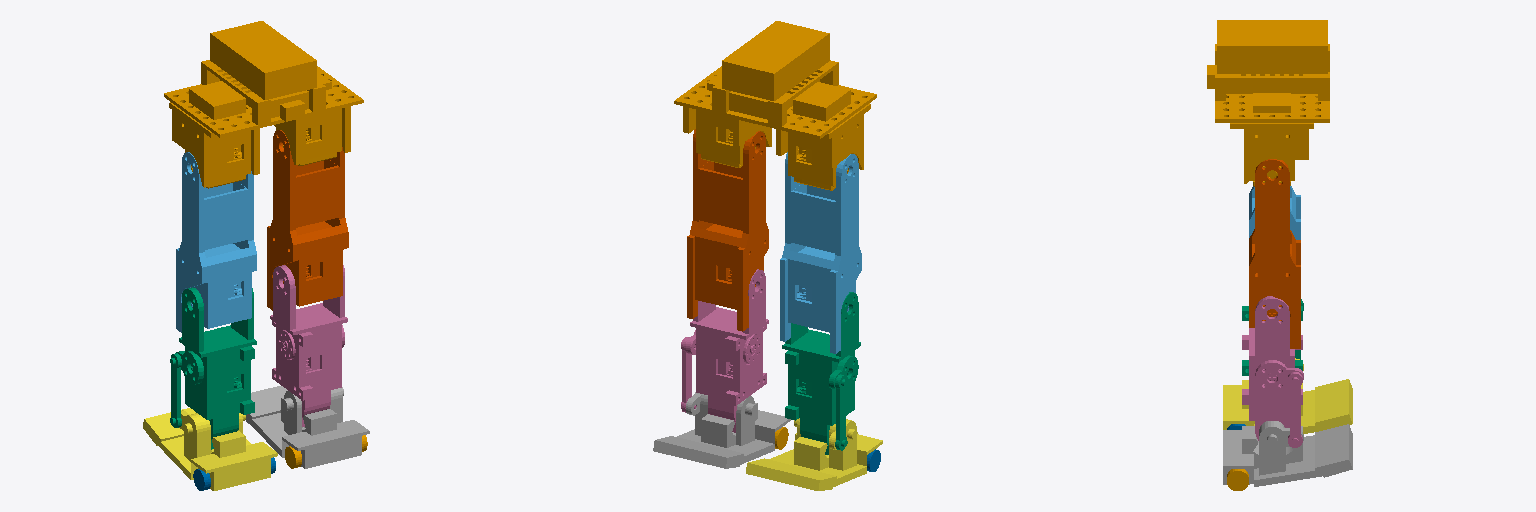
robot.urdf — moonwalk_mini_wheel:
<?xml version="1.0"?>
<!-- Generated by cad/build.py — do not edit. Foot variant: wheel. Total mass 382.3 g. Units: m, kg, kg·m², rad. -->
<robot name="moonwalk_mini_wheel">
  <link name="base_link">
    <inertial>
      <origin xyz="-0.000752311 -0.000186166 0.0276769" rpy="0 0 0"/>
      <mass value="0.148875"/>
      <inertia ixx="6.85301e-05" ixy="2.08506e-08" ixz="1.04419e-06" iyy="0.00012395" iyz="1.38398e-07" izz="9.49926e-05"/>
    </inertial>
    <visual>
      <origin xyz="0 0 0" rpy="0 0 0"/>
      <geometry><mesh filename="meshes/base_link.stl" scale="0.001 0.001 0.001"/></geometry>
    </visual>
    <collision name="base_link_body">
      <origin xyz="0 0 0.01145" rpy="0 0 0"/>
      <geometry><box size="0.088 0.02 0.0309"/></geometry>
    </collision>
    <collision name="base_link_tray">
      <origin xyz="0 0 0.03595" rpy="0 0 0"/>
      <geometry><box size="0.086 0.042 0.0181"/></geometry>
    </collision>
    <collision name="base_link_battery">
      <origin xyz="0 0 0.053" rpy="0 0 0"/>
      <geometry><box size="0.032 0.058 0.016"/></geometry>
    </collision>
  </link>
  <link name="L_thigh">
    <inertial>
      <origin xyz="-3.1717e-05 0.000413886 -0.0573372" rpy="0 0 0"/>
      <mass value="0.0441085"/>
      <inertia ixx="2.805e-05" ixy="-5.79022e-10" ixz="-2.07556e-08" iyy="3.01334e-05" iyz="3.77418e-07" izz="5.68791e-06"/>
    </inertial>
    <visual>
      <origin xyz="0 0 0" rpy="0 0 0"/>
      <geometry><mesh filename="meshes/L_thigh.stl" scale="0.001 0.001 0.001"/></geometry>
    </visual>
    <collision name="L_thigh_body">
      <origin xyz="0 0 -0.0525" rpy="0 0 0"/>
      <geometry><box size="0.032 0.0228 0.072"/></geometry>
    </collision>
  </link>
  <link name="L_shank">
    <inertial>
      <origin xyz="-0.000366964 0.000478842 -0.0429678" rpy="0 0 0"/>
      <mass value="0.044157"/>
      <inertia ixx="1.69101e-05" ixy="3.71902e-07" ixz="-2.08975e-07" iyy="1.86269e-05" iyz="1.80009e-07" izz="5.02995e-06"/>
    </inertial>
    <visual>
      <origin xyz="0 0 0" rpy="0 0 0"/>
      <geometry><mesh filename="meshes/L_shank.stl" scale="0.001 0.001 0.001"/></geometry>
    </visual>
    <collision name="L_shank_body">
      <origin xyz="0 0 -0.04365" rpy="0 0 0"/>
      <geometry><box size="0.0246 0.022 0.0373"/></geometry>
    </collision>
  </link>
  <link name="L_foot">
    <inertial>
      <origin xyz="-0.00113277 0.00203122 -0.0145507" rpy="0 0 0"/>
      <mass value="0.0252884"/>
      <inertia ixx="9.51689e-06" ixy="-1.52885e-10" ixz="2.52436e-07" iyy="4.7501e-06" iyz="-5.5871e-07" izz="1.12301e-05"/>
    </inertial>
    <visual>
      <origin xyz="0 0 0" rpy="0 0 0"/>
      <geometry><mesh filename="meshes/L_foot_wheel.stl" scale="0.001 0.001 0.001"/></geometry>
    </visual>
    <collision name="L_foot_toe_pad">
      <origin xyz="0 0.0340365 -0.0162944" rpy="0.314159 0 0"/>
      <geometry><box size="0.044 0.0157719 0.003"/></geometry>
    </collision>
    <collision name="L_foot_heel">
      <origin xyz="0 -0.018 -0.025" rpy="0 0 0"/>
      <geometry><box size="0.0352 0.016 0.003"/></geometry>
    </collision>
    <collision name="L_foot_body">
      <origin xyz="0 0.001 -0.0085" rpy="0 0 0"/>
      <geometry><box size="0.042 0.05 0.009"/></geometry>
    </collision>
  </link>
  <link name="L_wheel">
    <inertial>
      <origin xyz="-2.73874e-19 8.27733e-21 -3.61246e-20" rpy="0 0 0"/>
      <mass value="0.00316341"/>
      <inertia ixx="1.73002e-08" ixy="2.60396e-25" ixz="-8.31953e-23" iyy="7.02231e-07" iyz="-1.14039e-24" izz="7.02231e-07"/>
    </inertial>
    <visual>
      <origin xyz="0 0 0" rpy="0 0 0"/>
      <geometry><mesh filename="meshes/L_wheel.stl" scale="0.001 0.001 0.001"/></geometry>
    </visual>
    <collision name="L_wheel_out">
      <origin xyz="-0.02 0 0" rpy="0 0 0"/>
      <geometry><sphere radius="0.006"/></geometry>
    </collision>
    <collision name="L_wheel_in">
      <origin xyz="0.02 0 0" rpy="0 0 0"/>
      <geometry><sphere radius="0.006"/></geometry>
    </collision>
  </link>
  <link name="R_thigh">
    <inertial>
      <origin xyz="3.1717e-05 0.000413886 -0.0573372" rpy="0 0 0"/>
      <mass value="0.0441085"/>
      <inertia ixx="2.805e-05" ixy="5.79022e-10" ixz="2.07556e-08" iyy="3.01334e-05" iyz="3.77418e-07" izz="5.68791e-06"/>
    </inertial>
    <visual>
      <origin xyz="0 0 0" rpy="0 0 0"/>
      <geometry><mesh filename="meshes/R_thigh.stl" scale="0.001 0.001 0.001"/></geometry>
    </visual>
    <collision name="R_thigh_body">
      <origin xyz="-0 0 -0.0525" rpy="0 0 0"/>
      <geometry><box size="0.032 0.0228 0.072"/></geometry>
    </collision>
  </link>
  <link name="R_shank">
    <inertial>
      <origin xyz="0.000366964 0.000478842 -0.0429678" rpy="0 0 0"/>
      <mass value="0.044157"/>
      <inertia ixx="1.69101e-05" ixy="-3.71902e-07" ixz="2.08975e-07" iyy="1.86269e-05" iyz="1.80009e-07" izz="5.02995e-06"/>
    </inertial>
    <visual>
      <origin xyz="0 0 0" rpy="0 0 0"/>
      <geometry><mesh filename="meshes/R_shank.stl" scale="0.001 0.001 0.001"/></geometry>
    </visual>
    <collision name="R_shank_body">
      <origin xyz="-0 0 -0.04365" rpy="0 0 0"/>
      <geometry><box size="0.0246 0.022 0.0373"/></geometry>
    </collision>
  </link>
  <link name="R_foot">
    <inertial>
      <origin xyz="0.00113277 0.00203122 -0.0145507" rpy="0 0 0"/>
      <mass value="0.0252884"/>
      <inertia ixx="9.51689e-06" ixy="1.52885e-10" ixz="-2.52436e-07" iyy="4.7501e-06" iyz="-5.5871e-07" izz="1.12301e-05"/>
    </inertial>
    <visual>
      <origin xyz="0 0 0" rpy="0 0 0"/>
      <geometry><mesh filename="meshes/R_foot_wheel.stl" scale="0.001 0.001 0.001"/></geometry>
    </visual>
    <collision name="R_foot_toe_pad">
      <origin xyz="-0 0.0340365 -0.0162944" rpy="0.314159 0 0"/>
      <geometry><box size="0.044 0.0157719 0.003"/></geometry>
    </collision>
    <collision name="R_foot_heel">
      <origin xyz="-0 -0.018 -0.025" rpy="0 0 0"/>
      <geometry><box size="0.0352 0.016 0.003"/></geometry>
    </collision>
    <collision name="R_foot_body">
      <origin xyz="-0 0.001 -0.0085" rpy="0 0 0"/>
      <geometry><box size="0.042 0.05 0.009"/></geometry>
    </collision>
  </link>
  <link name="R_wheel">
    <inertial>
      <origin xyz="-2.80766e-19 1.28706e-20 9.5161e-20" rpy="0 0 0"/>
      <mass value="0.00316341"/>
      <inertia ixx="1.73002e-08" ixy="-1.56256e-25" ixz="7.89776e-23" iyy="7.02231e-07" iyz="-1.10386e-24" izz="7.02231e-07"/>
    </inertial>
    <visual>
      <origin xyz="0 0 0" rpy="0 0 0"/>
      <geometry><mesh filename="meshes/R_wheel.stl" scale="0.001 0.001 0.001"/></geometry>
    </visual>
    <collision name="R_wheel_out">
      <origin xyz="0.02 0 0" rpy="0 0 0"/>
      <geometry><sphere radius="0.006"/></geometry>
    </collision>
    <collision name="R_wheel_in">
      <origin xyz="-0.02 0 0" rpy="0 0 0"/>
      <geometry><sphere radius="0.006"/></geometry>
    </collision>
  </link>
  <joint name="L_hip_pitch" type="revolute">
    <parent link="base_link"/>
    <child link="L_thigh"/>
    <origin xyz="-0.028 0 0" rpy="0 0 0"/>
    <axis xyz="1 0 0"/>
    <limit lower="-0.523599" upper="1.5708" effort="0.88" velocity="7.64"/>
  </joint>
  <joint name="L_knee_pitch" type="revolute">
    <parent link="L_thigh"/>
    <child link="L_shank"/>
    <origin xyz="0 0 -0.08" rpy="0 0 0"/>
    <axis xyz="-1 0 0"/>
    <limit lower="0" upper="2.0944" effort="0.88" velocity="7.64"/>
  </joint>
  <joint name="L_ankle_pitch" type="revolute">
    <parent link="L_shank"/>
    <child link="L_foot"/>
    <origin xyz="0 0 -0.072" rpy="0 0 0"/>
    <axis xyz="1 0 0"/>
    <limit lower="-0.610865" upper="0.523599" effort="0.88" velocity="7.64"/>
  </joint>
  <joint name="L_wheel_axle" type="continuous">
    <parent link="L_foot"/>
    <child link="L_wheel"/>
    <origin xyz="0 -0.018 -0.022" rpy="0 0 0"/>
    <axis xyz="1 0 0"/>
    <limit effort="0" velocity="200"/>
    <dynamics damping="2e-05" friction="0.0005"/>
  </joint>
  <joint name="R_hip_pitch" type="revolute">
    <parent link="base_link"/>
    <child link="R_thigh"/>
    <origin xyz="0.028 0 0" rpy="0 0 0"/>
    <axis xyz="1 -0 -0"/>
    <limit lower="-0.523599" upper="1.5708" effort="0.88" velocity="7.64"/>
  </joint>
  <joint name="R_knee_pitch" type="revolute">
    <parent link="R_thigh"/>
    <child link="R_shank"/>
    <origin xyz="0 0 -0.08" rpy="0 0 0"/>
    <axis xyz="-1 -0 -0"/>
    <limit lower="0" upper="2.0944" effort="0.88" velocity="7.64"/>
  </joint>
  <joint name="R_ankle_pitch" type="revolute">
    <parent link="R_shank"/>
    <child link="R_foot"/>
    <origin xyz="0 0 -0.072" rpy="0 0 0"/>
    <axis xyz="1 -0 -0"/>
    <limit lower="-0.610865" upper="0.523599" effort="0.88" velocity="7.64"/>
  </joint>
  <joint name="R_wheel_axle" type="continuous">
    <parent link="R_foot"/>
    <child link="R_wheel"/>
    <origin xyz="0 -0.018 -0.022" rpy="0 0 0"/>
    <axis xyz="1 -0 -0"/>
    <limit effort="0" velocity="200"/>
    <dynamics damping="2e-05" friction="0.0005"/>
  </joint>
</robot>

--- What the picture shows (computed from the rendered views, not written in the file) ---
The picture shows the robot from 3 angles, left to right: view 1: azimuth 30°, elevation 25°; view 2: azimuth 150°, elevation 25°; view 3: azimuth 270°, elevation 25°; orthographic projection.
Model moonwalk_mini_wheel with 9 links and 8 joints (6 revolute, 2 continuous), rooted at base_link, posed every joint at zero.
Visible links, largest first — view 1: base_link, R_thigh, L_thigh, L_shank, R_shank, R_foot, L_foot; view 2: base_link, L_thigh, R_thigh, R_shank, L_shank, R_foot, L_foot; view 3: base_link, R_thigh, R_foot, R_shank, L_foot, L_thigh.
Link boxes in pixels (<box>): base_link: <box>164,21,363,188</box>; R_thigh: <box>267,130,348,310</box>; L_thigh: <box>176,152,256,332</box>; L_shank: <box>170,287,256,449</box>; R_shank: <box>270,265,347,426</box>; R_foot: <box>246,386,369,468</box>; L_foot: <box>143,408,277,490</box>; base_link: <box>674,21,876,190</box>; L_thigh: <box>780,152,861,353</box>; R_thigh: <box>687,129,768,331</box>; R_shank: <box>681,269,768,432</box>; L_shank: <box>782,292,860,454</box>; R_foot: <box>653,392,790,468</box>; L_foot: <box>746,418,882,490</box>; base_link: <box>1207,20,1329,186</box>; R_thigh: <box>1249,159,1300,348</box>; R_foot: <box>1223,421,1352,486</box>; R_shank: <box>1242,296,1303,447</box>; L_foot: <box>1223,358,1352,433</box>; L_thigh: <box>1249,186,1300,239</box>.
Bounding box of the posed robot: 0.1 × 0.076 × 0.241 m (x, y, z).
9 mesh visuals loaded from 9 distinct referenced files (9 binary STL).
